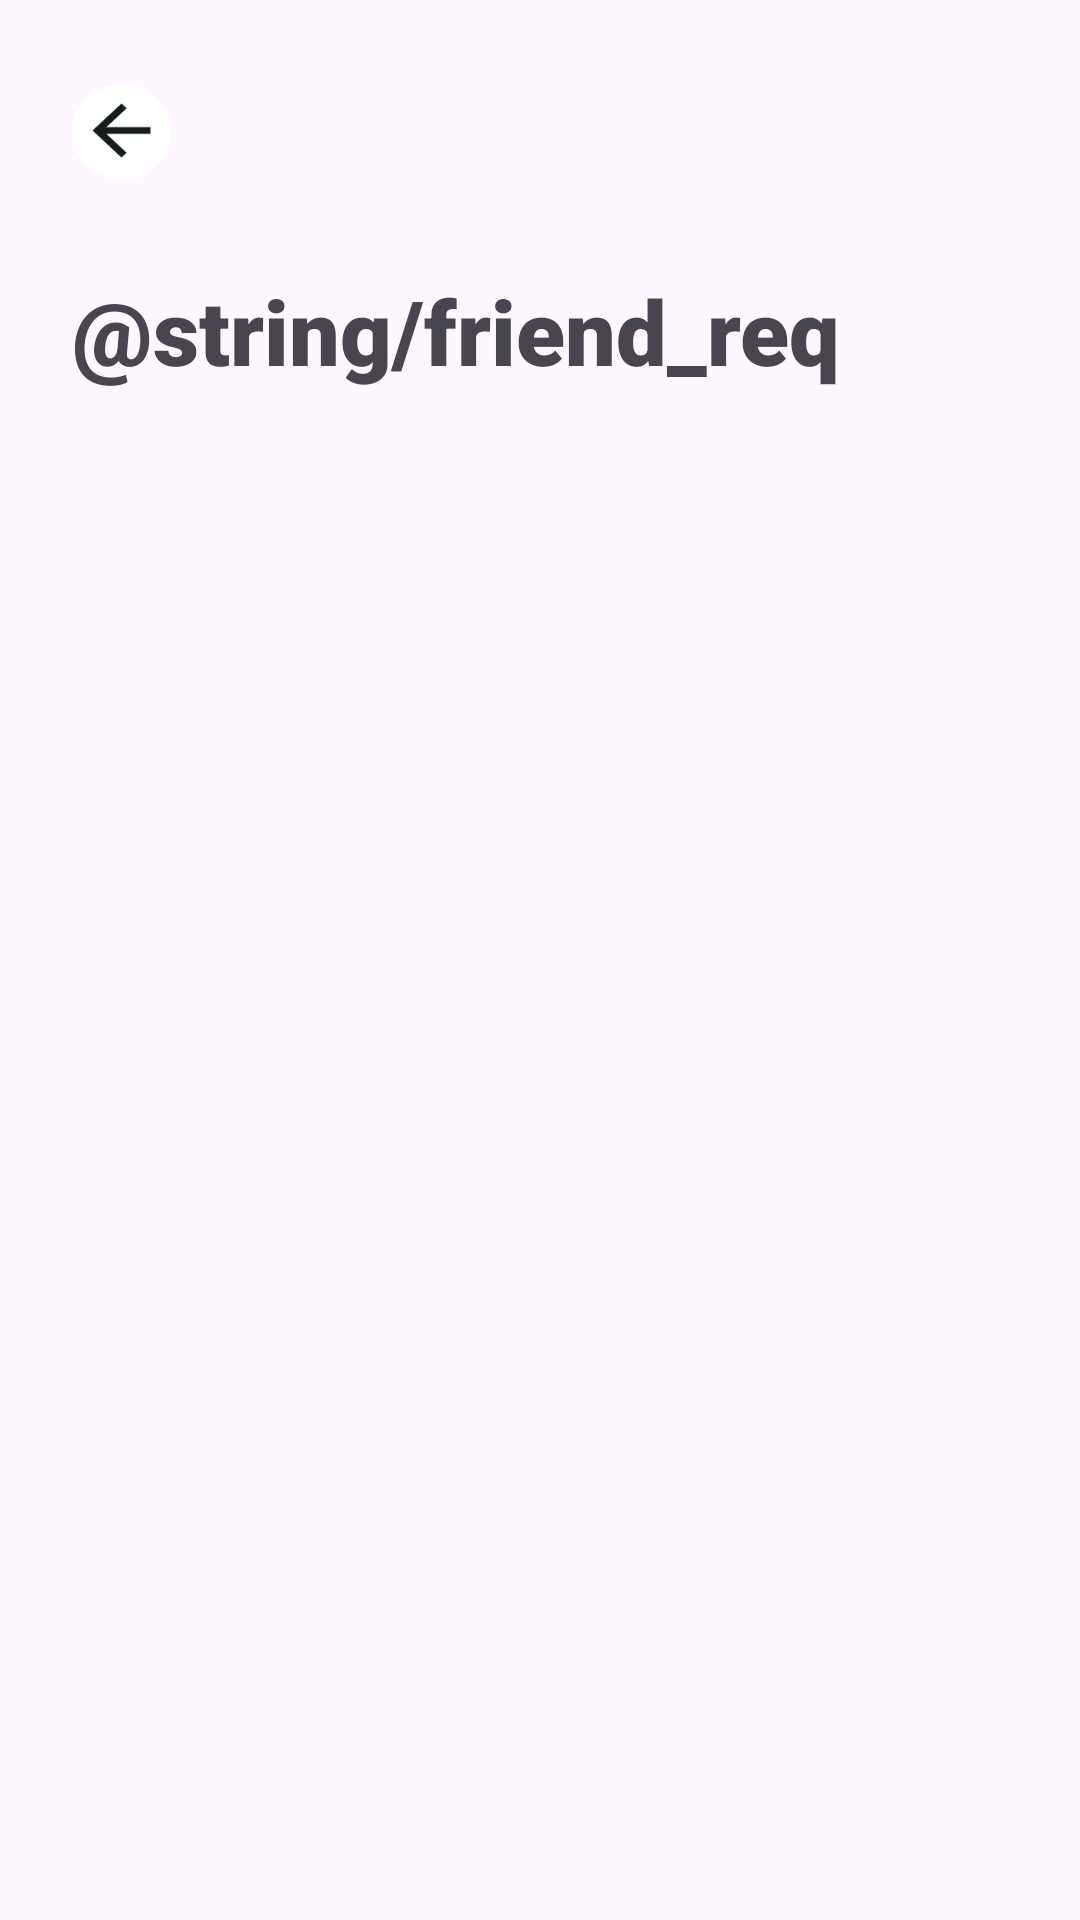

Icon click points for this 1080x1920 phone screenshot, format point (x, y):
Back: point (121, 130)
